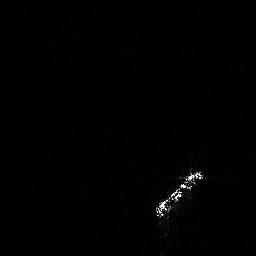ship: (151, 166, 208, 221)
